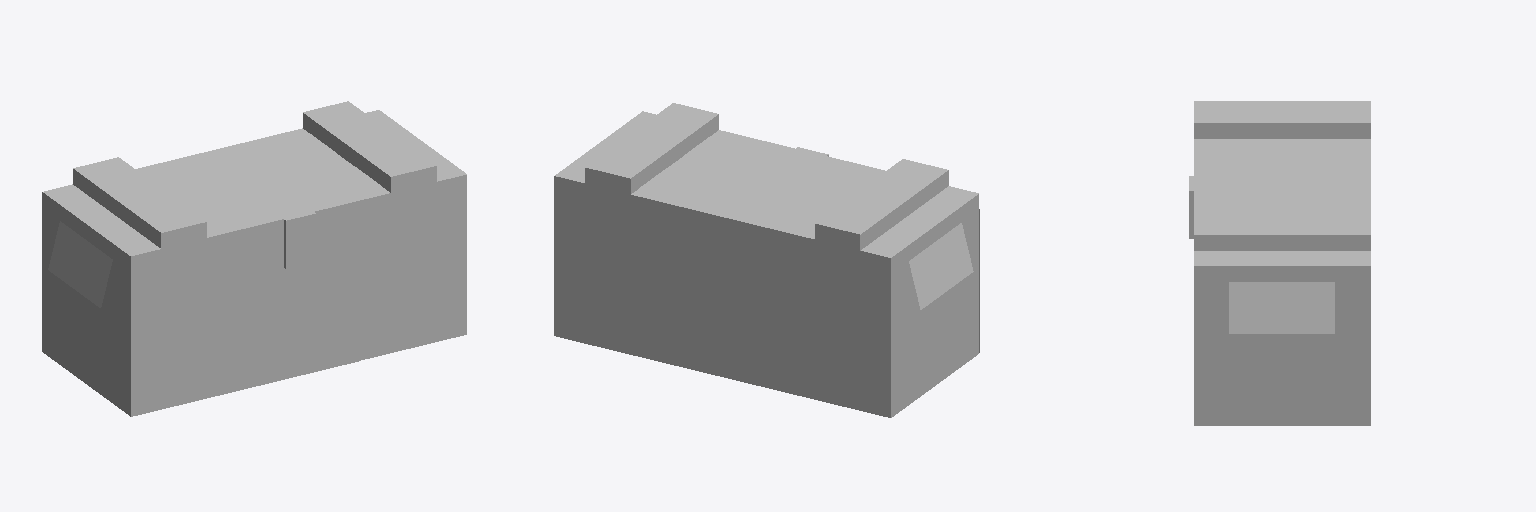
The model's file is ammocrate_shell37.obj.
3 views of the same model, side by side, from view 1: azimuth 30°, elevation 25°; view 2: azimuth 150°, elevation 25°; view 3: azimuth 270°, elevation 25° (orthographic).
Parts seen in each view (by area): view 1: crate, lid; view 2: crate, lid; view 3: lid, crate.
Boxes of the visible parts, box(x1,y1,x2,y2) form: crate: box(42, 191, 466, 416); lid: box(42, 101, 466, 271); crate: box(554, 192, 979, 417); lid: box(554, 103, 978, 273); lid: box(1189, 101, 1370, 281); crate: box(1194, 282, 1370, 425).
Bounding box in the file's own units: 1.47 × 0.6875 × 0.6406.